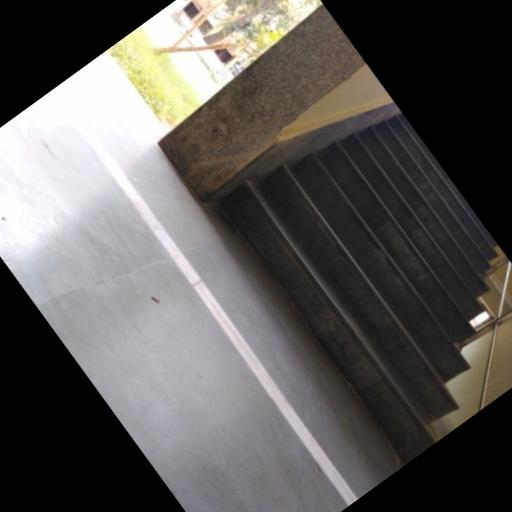stairs: (221, 116, 497, 463)
